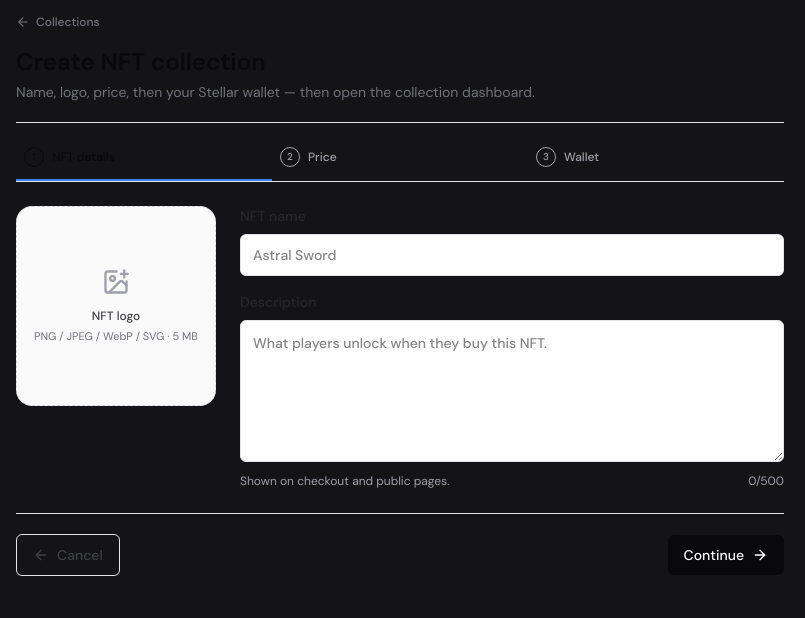
CollectionCreate › validates required collection details
The width and height of the screenshot is (805, 618).
Click the button "Continue".
click(726, 555)  # box x1=668 y1=535 x2=784 y2=575
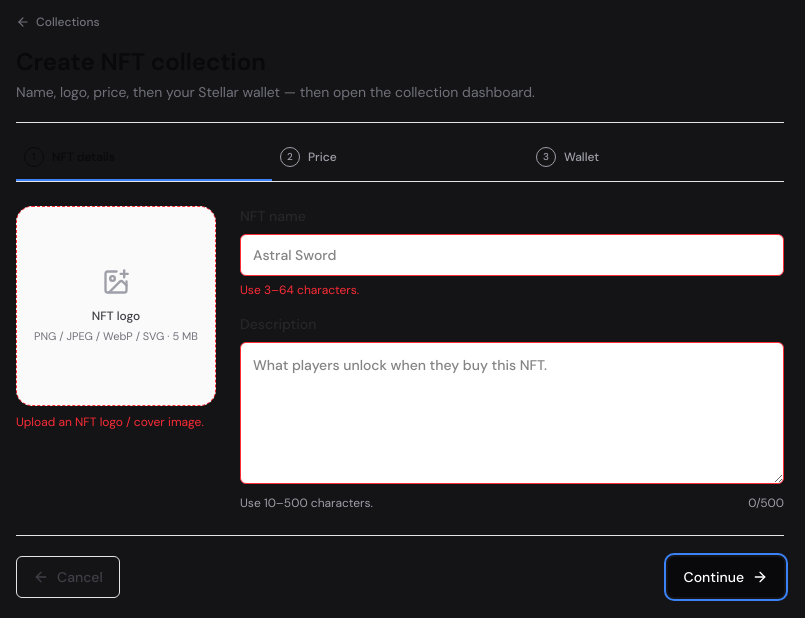
Check: the text "Use 3–64 characters." is shown, box x1=240 y1=282 x2=359 y2=298
Check: the text "Use 10–500 characters." is shown, box x1=240 y1=495 x2=373 y2=511
Check: the text "Upload an NFT logo / cover image." is shown, box x1=16 y1=414 x2=216 y2=430
